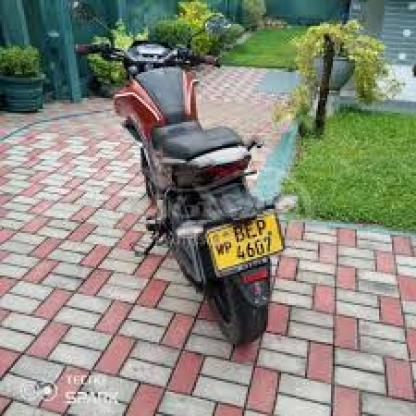bike back: (62, 0, 289, 358)
number plate: (212, 214, 274, 262)
